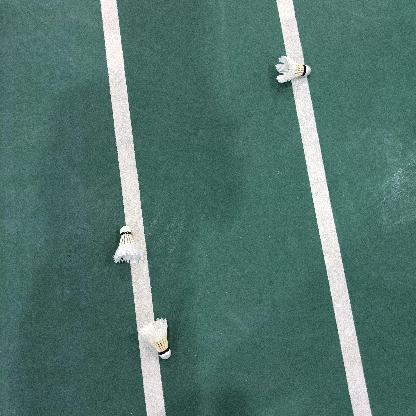ball_single: (139, 317, 171, 359), (113, 226, 143, 263), (275, 56, 311, 84)
